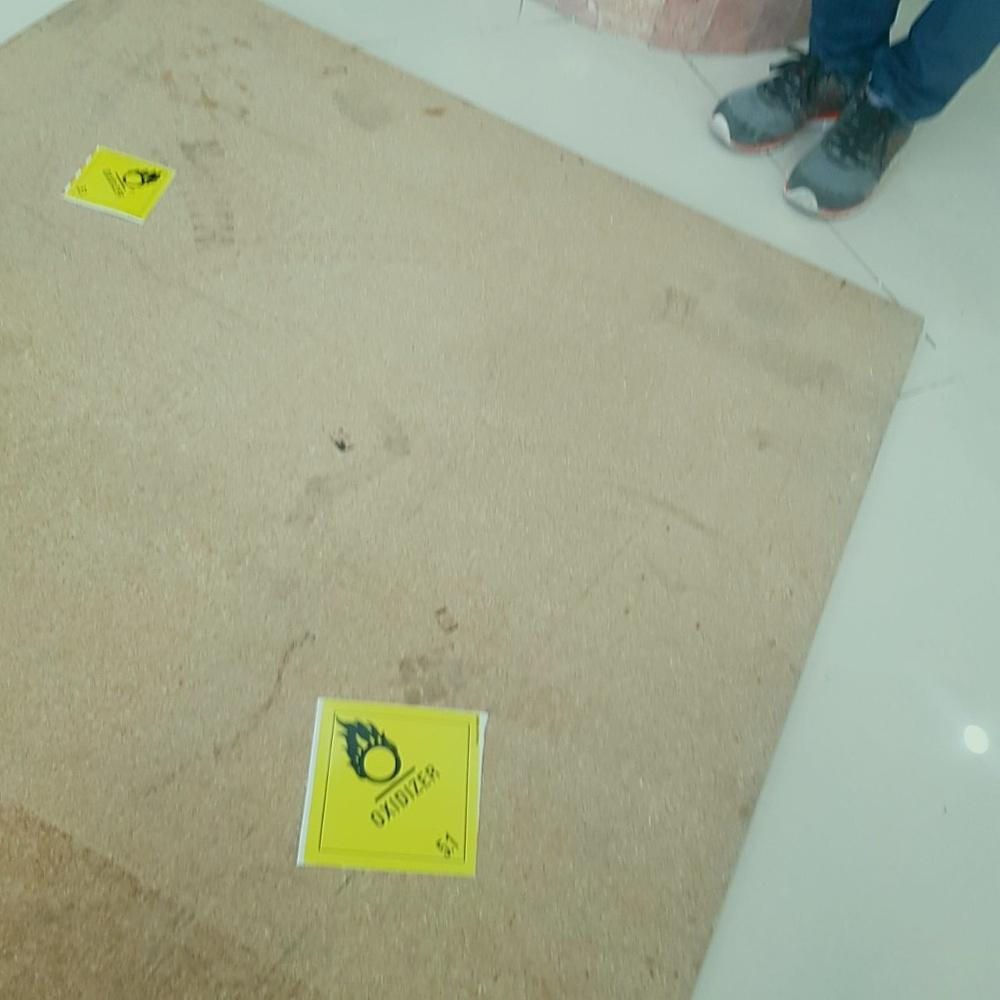oxidizer: (296, 696, 486, 881), (59, 144, 177, 224)
